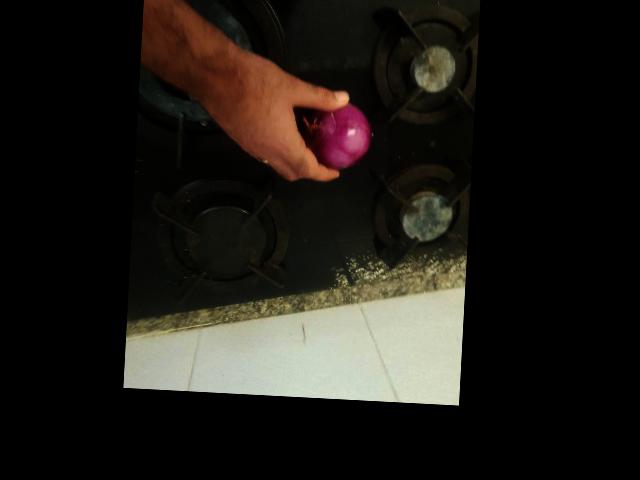onion: (361, 234, 427, 300)
